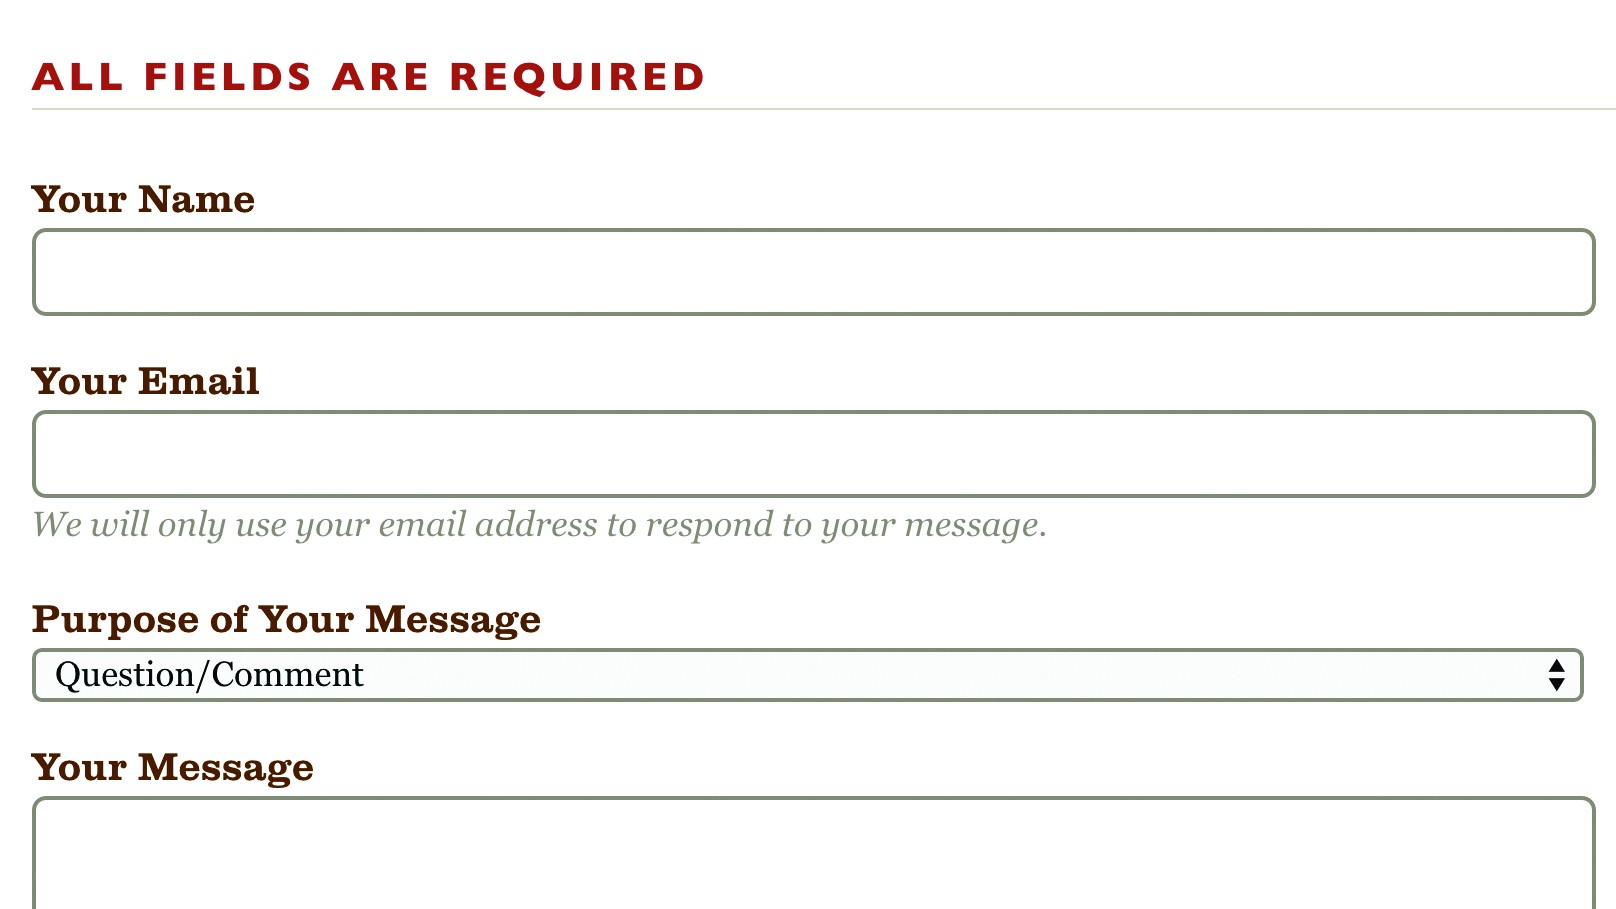_form_: (14, 36, 1604, 753)
field: (30, 224, 1597, 317), (30, 407, 1595, 497), (32, 644, 1587, 704)
field_with_label: (19, 175, 1602, 323), (20, 358, 1600, 504), (23, 599, 1596, 713)
